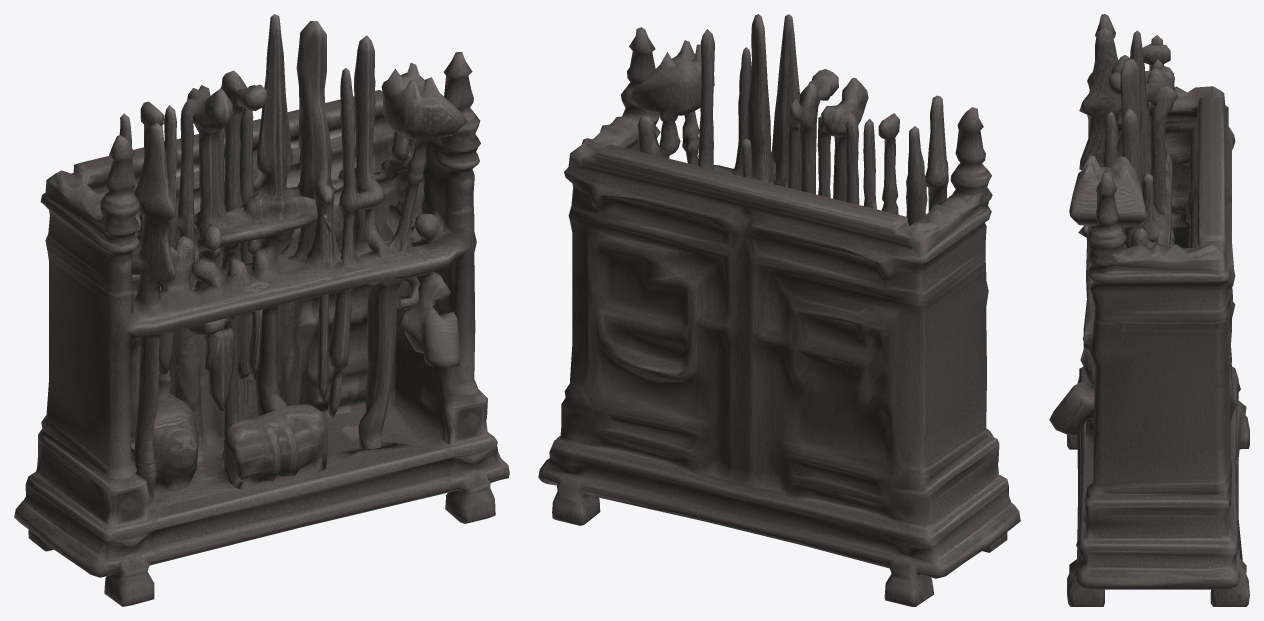
File: armory_iron.glb
The picture shows the model from 3 angles, left to right: view 1: azimuth 30°, elevation 25°; view 2: azimuth 150°, elevation 25°; view 3: azimuth 270°, elevation 25°; orthographic projection. The views are drawn at different scales.
Size of the model in its own units: 1.62 by 1.91 by 0.7045.
1 material, 1 textured.
